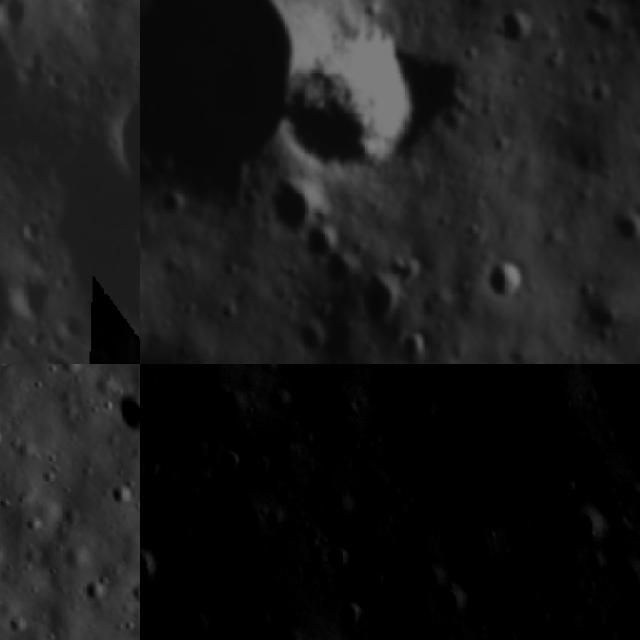crater: (140, 0, 292, 207), (280, 39, 438, 191), (510, 368, 580, 442), (99, 71, 140, 186), (206, 490, 272, 552), (354, 261, 414, 328), (260, 176, 323, 237), (479, 248, 533, 307), (558, 504, 618, 554), (3, 266, 52, 326), (101, 380, 140, 447), (490, 4, 540, 52), (301, 219, 345, 263), (433, 585, 475, 627), (606, 204, 640, 251), (606, 558, 640, 604), (246, 448, 280, 494), (206, 446, 248, 479), (356, 560, 392, 598), (499, 513, 534, 552), (140, 364, 164, 418), (140, 542, 163, 593), (325, 542, 352, 580), (0, 0, 31, 32), (336, 599, 366, 632), (182, 608, 208, 640), (41, 347, 74, 364), (133, 365, 140, 396)
